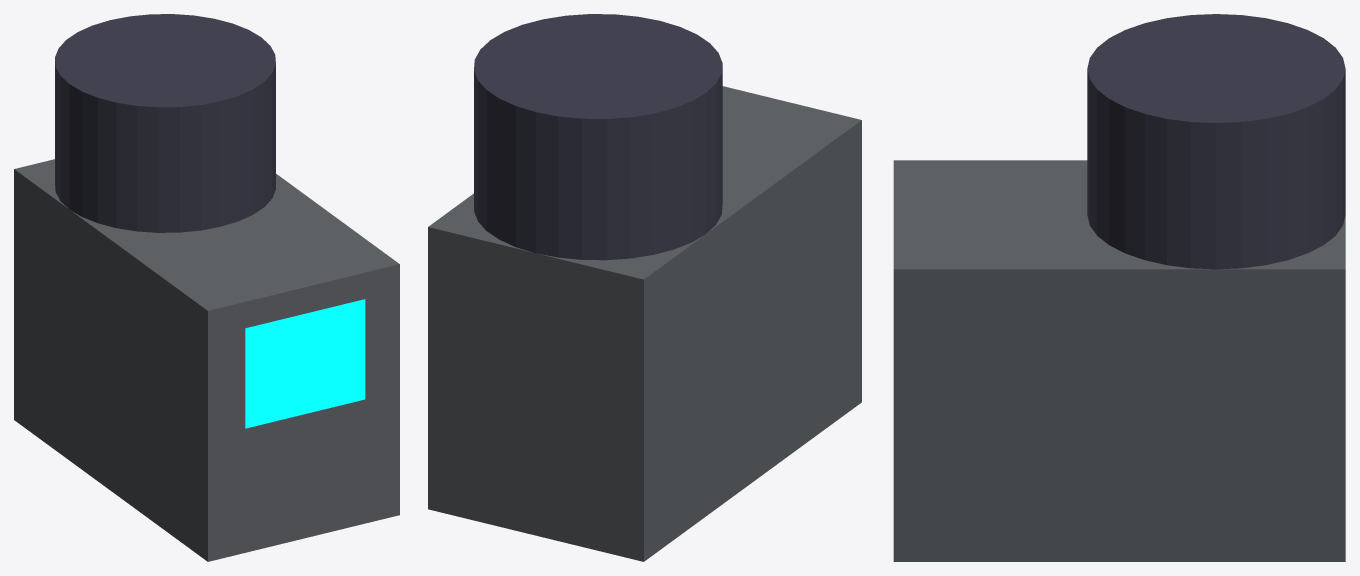
File: SM_Lidar_Scanner.fbx
3 renders of one model, left to right at view 1: azimuth 30°, elevation 25°; view 2: azimuth 150°, elevation 25°; view 3: azimuth 270°, elevation 25°, orthographic. The views are drawn at different scales.
Visible parts, largest first — view 1: SM_Lidar_Scanner; view 2: SM_Lidar_Scanner; view 3: SM_Lidar_Scanner.
Boxes of the visible parts, <box> form: SM_Lidar_Scanner: <box>14,14,399,561</box>; SM_Lidar_Scanner: <box>428,14,861,561</box>; SM_Lidar_Scanner: <box>893,14,1345,561</box>.
Bounding box in the file's own units: 0.08 × 0.15 × 0.141.
